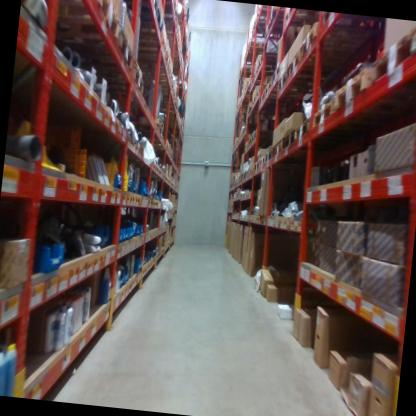pallet: (253, 8, 316, 108), (296, 14, 389, 79), (332, 59, 413, 123), (34, 18, 138, 66), (312, 94, 408, 141), (51, 53, 146, 97), (29, 0, 127, 38), (370, 17, 416, 95), (287, 47, 348, 87), (278, 69, 346, 102), (123, 7, 168, 36), (250, 93, 292, 113), (283, 8, 323, 27), (254, 5, 288, 27), (245, 102, 278, 119), (244, 39, 271, 57), (296, 112, 312, 142), (257, 51, 282, 70), (282, 124, 298, 153), (120, 0, 162, 11), (250, 20, 277, 37), (243, 139, 268, 155), (271, 58, 284, 86), (272, 135, 286, 157), (265, 71, 274, 100), (251, 127, 264, 143), (247, 135, 260, 148), (258, 90, 267, 107), (264, 147, 272, 166), (258, 153, 266, 170), (246, 162, 254, 179), (253, 159, 260, 174)
